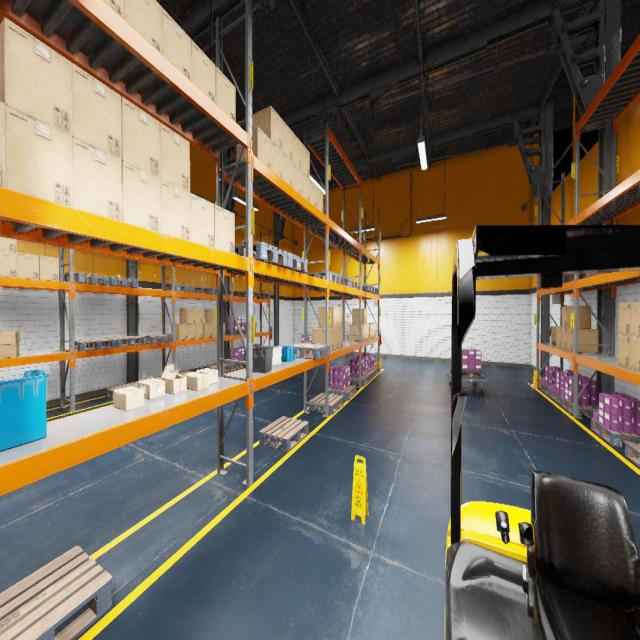box: (0, 17, 72, 136), (5, 105, 73, 207), (72, 63, 122, 160), (72, 137, 122, 221), (121, 96, 160, 178), (122, 160, 160, 232), (162, 7, 191, 81), (160, 123, 190, 192), (124, 0, 161, 53), (160, 179, 190, 241), (192, 40, 216, 103), (236, 126, 271, 169), (252, 106, 282, 151), (190, 192, 214, 248), (216, 66, 236, 122), (214, 204, 235, 253), (567, 328, 598, 353), (113, 386, 144, 411), (162, 364, 186, 394), (562, 306, 591, 328), (17, 252, 39, 279), (138, 378, 165, 399), (0, 330, 20, 358), (39, 255, 59, 281), (0, 101, 6, 187), (561, 328, 584, 350), (312, 328, 333, 351), (0, 250, 17, 277), (184, 372, 208, 391), (318, 306, 338, 328), (618, 334, 630, 369), (271, 140, 282, 178), (618, 302, 630, 336), (196, 368, 218, 385), (283, 120, 292, 161), (630, 336, 640, 372), (103, 0, 123, 18), (630, 302, 640, 336), (283, 152, 292, 186), (293, 132, 301, 170), (293, 162, 301, 194), (172, 324, 188, 340), (349, 324, 364, 341), (0, 237, 17, 252), (302, 143, 309, 178), (352, 308, 367, 324), (180, 308, 195, 324), (550, 326, 562, 345), (302, 171, 309, 201), (310, 179, 316, 207), (317, 186, 323, 213), (366, 323, 376, 337), (556, 327, 562, 349), (195, 308, 203, 324), (203, 323, 212, 337), (244, 322, 256, 332), (205, 310, 215, 322), (188, 324, 195, 339), (195, 324, 202, 338), (338, 327, 342, 349), (334, 328, 338, 350), (338, 306, 342, 327), (212, 323, 217, 337), (364, 324, 366, 340), (367, 324, 369, 339), (223, 322, 225, 336)
forklift: (444, 225, 640, 640)
pallets: (0, 546, 112, 640), (259, 416, 309, 452), (590, 418, 640, 447), (235, 242, 287, 266), (561, 396, 598, 418), (309, 392, 343, 415), (288, 343, 330, 359), (69, 338, 116, 351), (66, 273, 110, 285), (106, 382, 138, 398), (282, 252, 307, 272), (307, 271, 341, 284), (106, 336, 146, 347), (329, 384, 356, 400), (450, 366, 485, 378), (624, 441, 640, 467), (139, 334, 172, 344), (110, 277, 137, 287), (562, 273, 585, 283), (350, 374, 369, 386), (165, 285, 194, 292), (550, 388, 562, 404), (206, 364, 231, 371), (188, 287, 210, 294), (540, 382, 550, 396), (135, 377, 161, 382), (225, 329, 246, 335), (238, 291, 258, 297), (226, 362, 243, 369), (358, 285, 374, 292), (364, 370, 375, 380), (211, 289, 228, 295), (370, 366, 379, 376), (341, 276, 349, 286), (368, 287, 379, 294), (253, 293, 268, 298), (349, 280, 358, 288), (178, 371, 195, 375), (585, 273, 599, 277), (538, 280, 540, 288)
